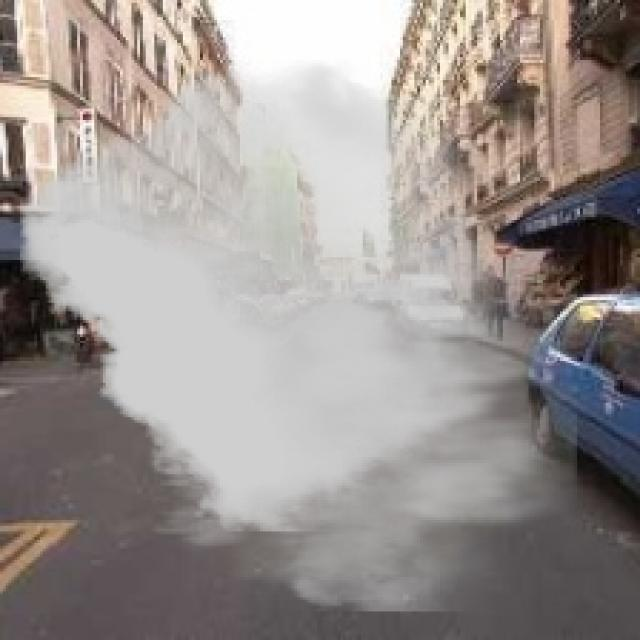Smoke: (20, 59, 577, 612)
